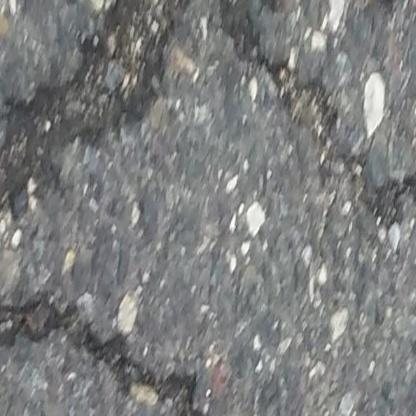Cracks: (209, 0, 416, 226), (0, 0, 203, 213), (0, 292, 209, 416)
